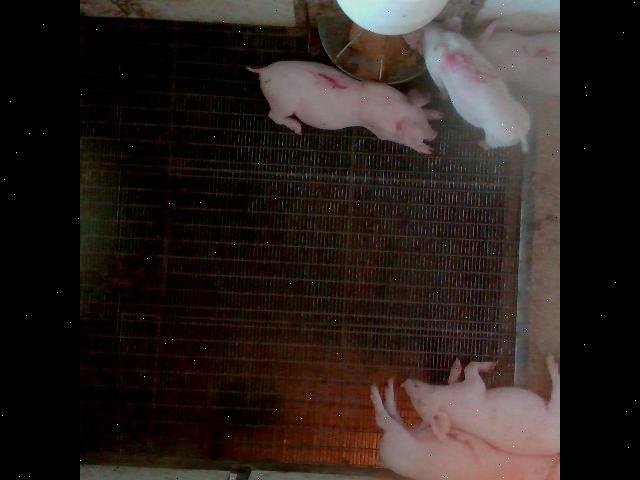pig-1: (248, 60, 442, 152)
pig-3: (471, 21, 559, 95)
pig-5: (402, 16, 529, 150)
